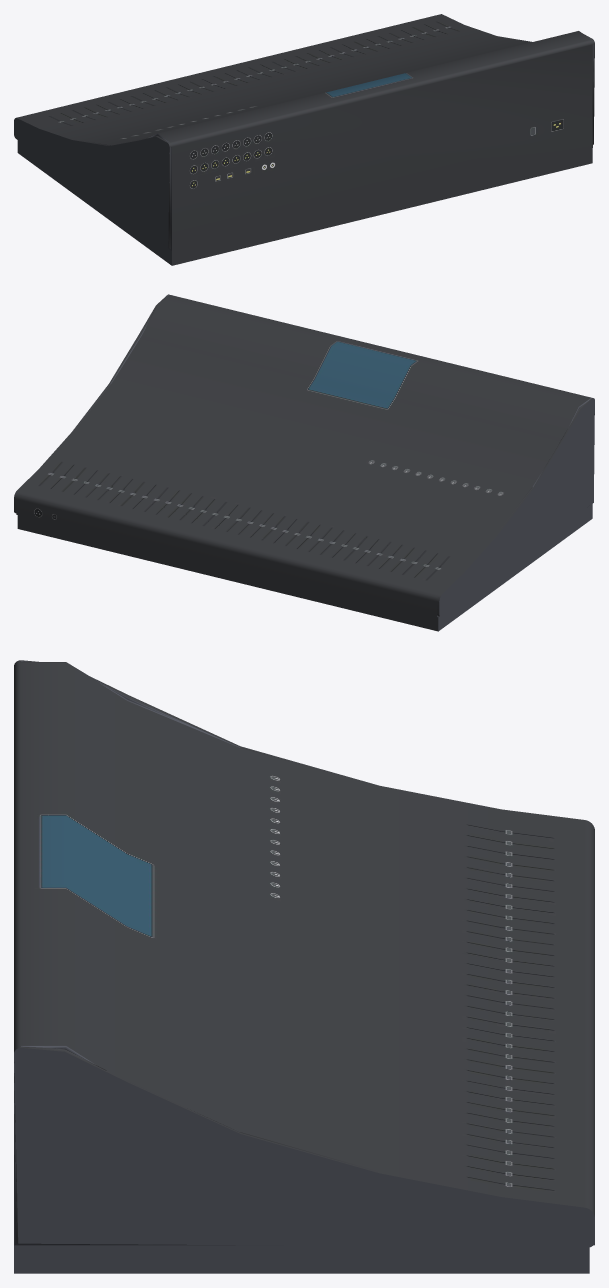
The model's file is yamaha-cl5.glb.
The picture shows the model from 3 angles, top to bottom: view 1: azimuth 30°, elevation 25°; view 2: azimuth 150°, elevation 25°; view 3: azimuth 270°, elevation 25°; orthographic projection. The views are drawn at different scales.
Visible parts, largest first — view 1: yamaha-cl5-body; view 2: yamaha-cl5-body; view 3: yamaha-cl5-body.
Part boxes in pixels (box(x1,y1,x2,y2)): yamaha-cl5-body: box(14, 14, 594, 265); yamaha-cl5-body: box(14, 294, 594, 631); yamaha-cl5-body: box(14, 660, 594, 1273).
Bounding box in the file's own units: 1.05 × 0.299 × 0.667.
Materials: 1 (1 with a texture image).
